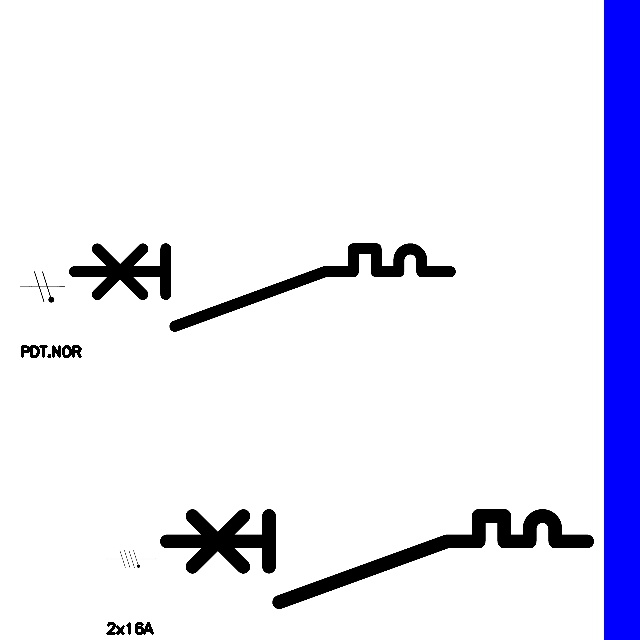interruptor_termomagnetico: (156, 505, 598, 613), (64, 239, 459, 336)
